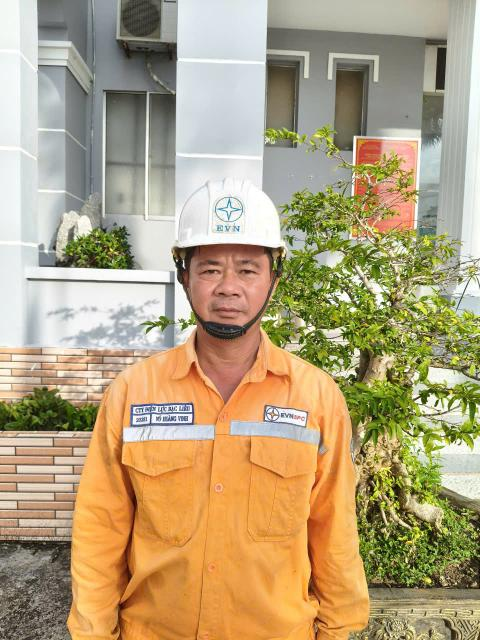helmet: (168, 164, 290, 263)
